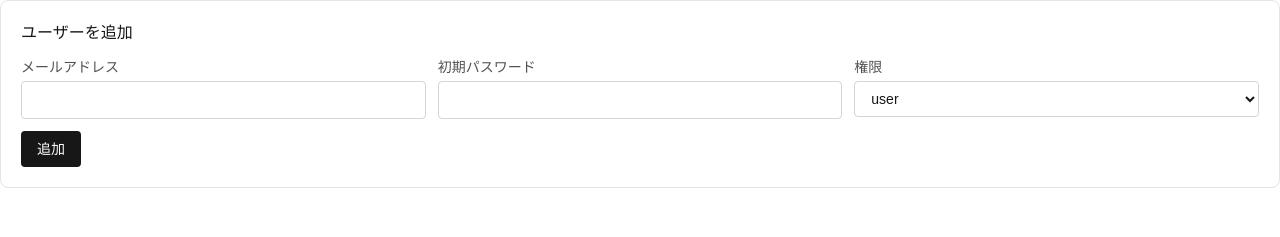
Test: UserForm › 送信に成功すると成功メッセージを出し、入力欄を空に戻す
Type "new@example.com" into the field labelled "メールアドレス" at (223, 100), box x1=21 y1=81 x2=426 y2=119
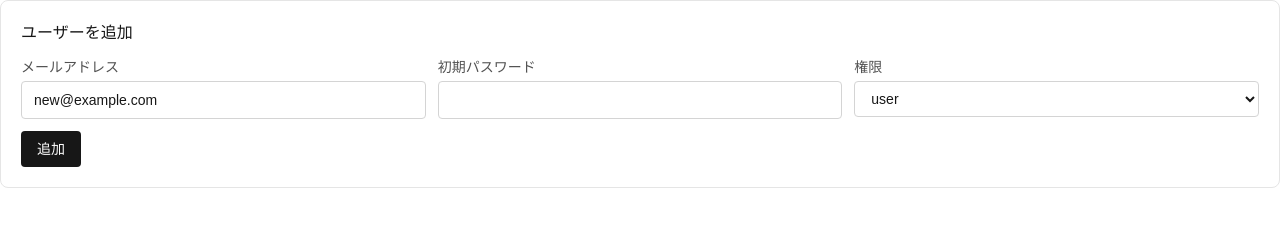
Type "pass1234" into the password field labelled "初期パスワード" at (640, 100), box x1=438 y1=81 x2=842 y2=119
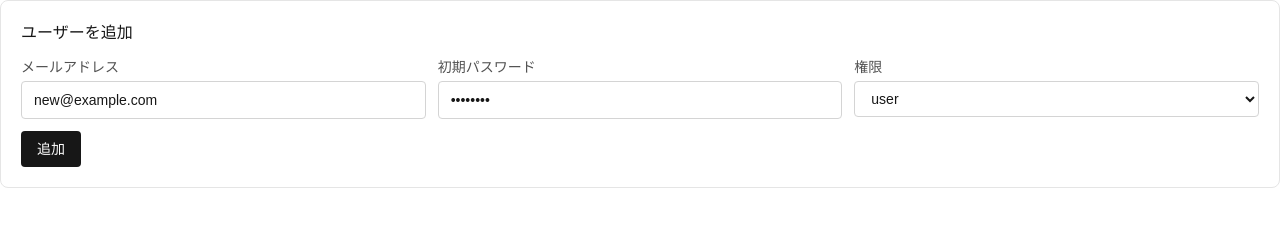
Select "admin" in the dropdown labelled "権限" at (1057, 99), box x1=854 y1=81 x2=1259 y2=117
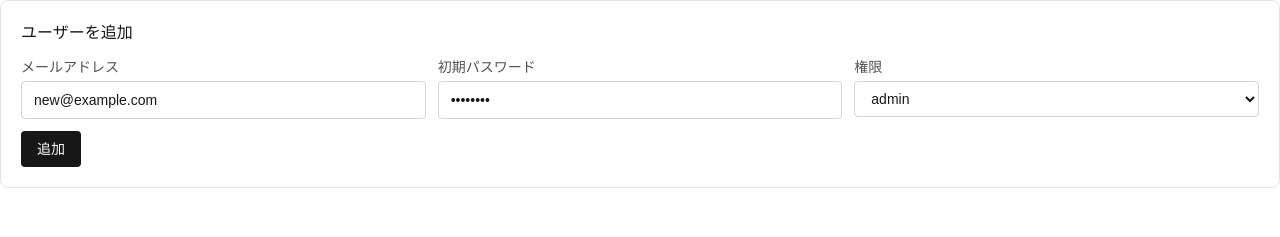
Click the button "追加" at (51, 149), box x1=21 y1=131 x2=81 y2=167
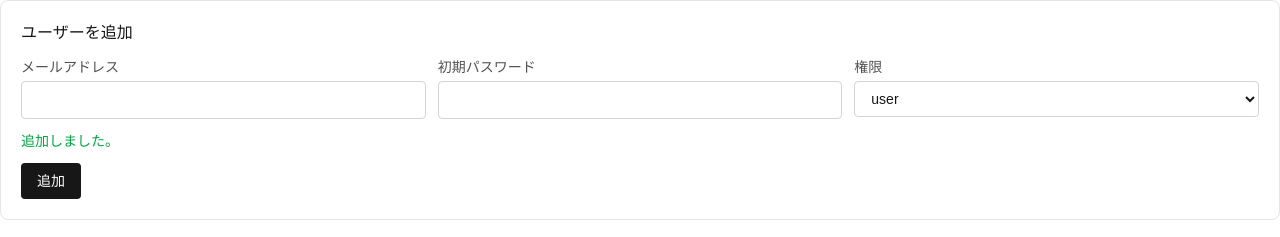
Expected: the text "追加しました。" is shown, x1=21 y1=133 x2=119 y2=149
Expected: the field labelled "メールアドレス" is empty, x1=21 y1=81 x2=426 y2=119
Expected: the password field labelled "初期パスワード" is empty, x1=438 y1=81 x2=842 y2=119
